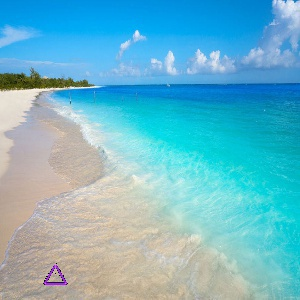triangle: (40, 261, 69, 289)
